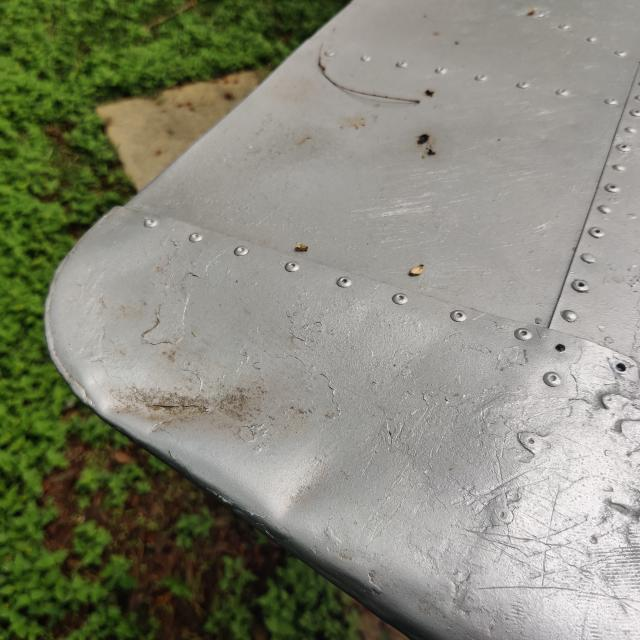dent: (246, 431, 356, 550)
scratch: (526, 461, 640, 618)
